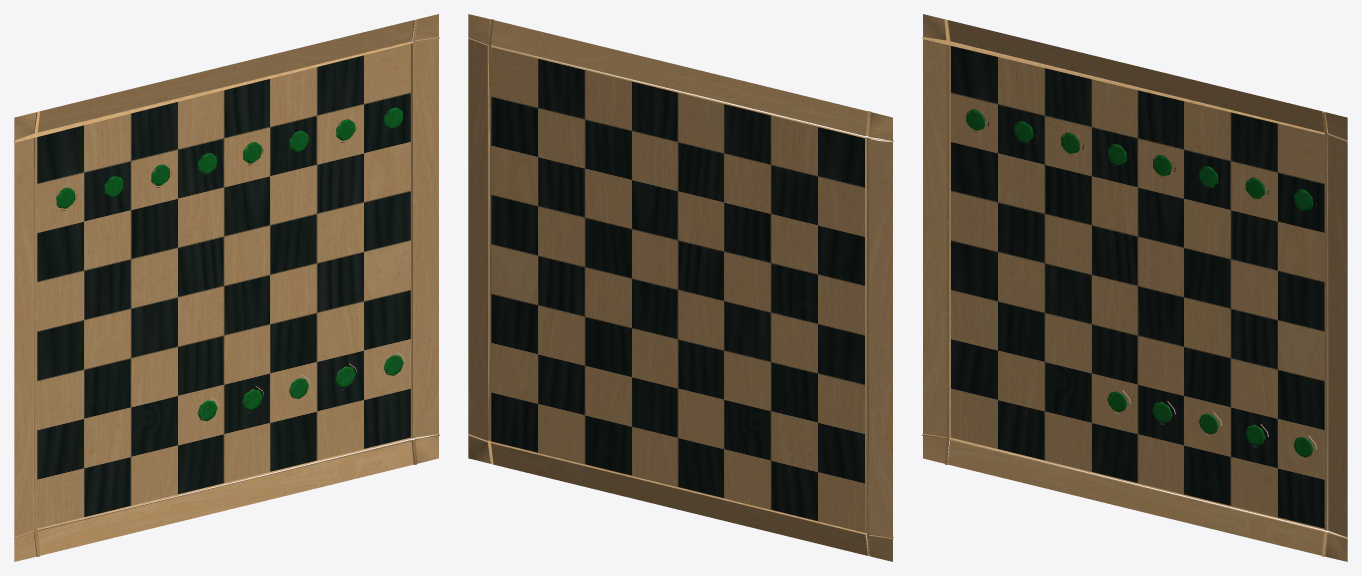
The model's file is Board.glb.
3 renders of one model, left to right at view 1: azimuth 30°, elevation 25°; view 2: azimuth 150°, elevation 25°; view 3: azimuth 330°, elevation 25°, orthographic.
Parts seen in each view (by area): view 1: Board; view 2: Board; view 3: Board.
Part boxes in pixels (x1,y1,x2,y2): Board: [14, 14, 439, 561]; Board: [468, 14, 893, 561]; Board: [922, 14, 1347, 561].
Bounding box in the file's own units: 0.5301 × 0.5301 × 0.00724.
1 material, 1 textured.
